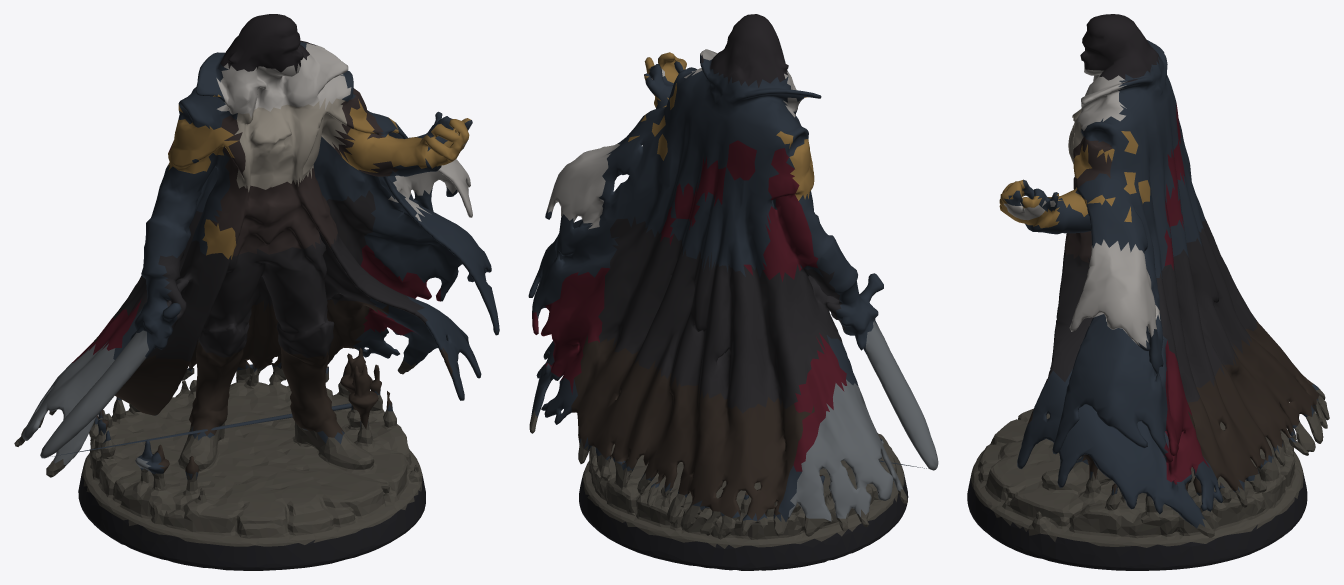
Rendered from lorde_vampiro.glb.
The picture shows the model from 3 angles, left to right: view 1: azimuth 30°, elevation 25°; view 2: azimuth 150°, elevation 25°; view 3: azimuth 270°, elevation 25°; orthographic projection. The views are drawn at different scales.
Parts seen in each view (by area): view 1: tmpf1j2ccc2.ply; view 2: tmpf1j2ccc2.ply; view 3: tmpf1j2ccc2.ply.
Boxes of the visible parts, x1=… form: tmpf1j2ccc2.ply: x1=14, y1=14, x2=499, y2=570; tmpf1j2ccc2.ply: x1=528, y1=14, x2=938, y2=570; tmpf1j2ccc2.ply: x1=967, y1=14, x2=1329, y2=570.
Size of the model in its own units: 1.79 by 1.96 by 1.32.
